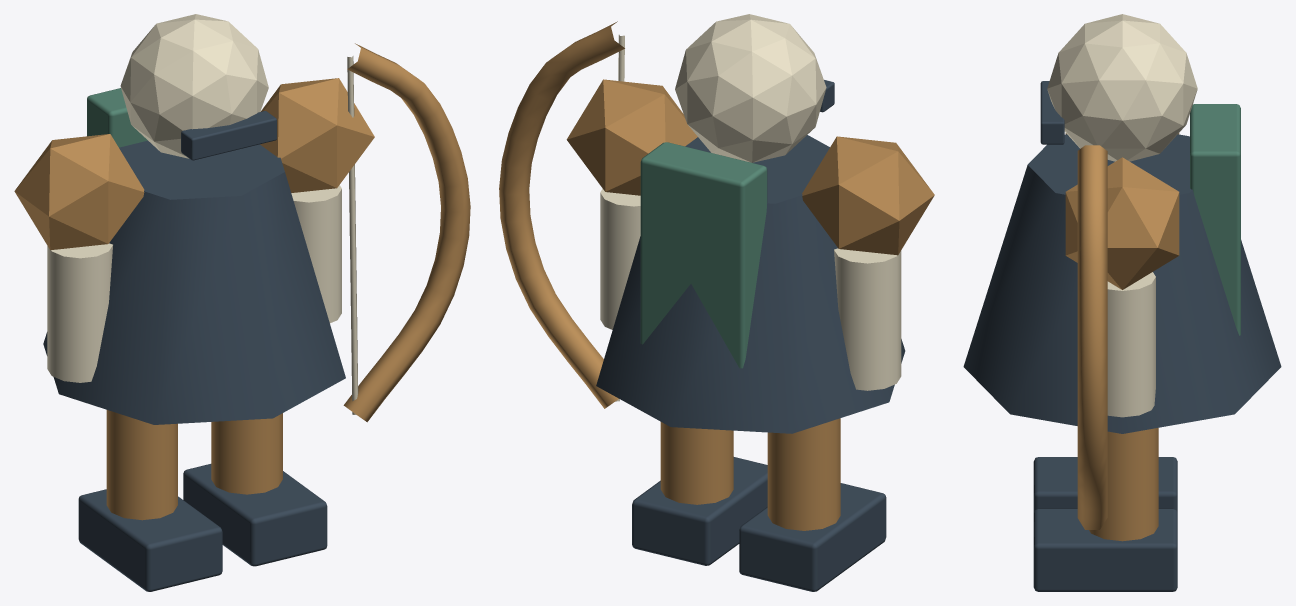
The model's file is sunfall-rift-moba-thorn-ranger-c5d8e879__21989.glb.
3 renders of one model, left to right at view 1: azimuth 30°, elevation 25°; view 2: azimuth 150°, elevation 25°; view 3: azimuth 270°, elevation 25°, orthographic. The views are drawn at different scales.
Visible parts, largest first — view 1: thorn-ranger; view 2: thorn-ranger; view 3: thorn-ranger.
Part boxes in pixels (<box>): thorn-ranger: <box>14,14,470,591</box>; thorn-ranger: <box>499,14,934,591</box>; thorn-ranger: <box>963,14,1281,591</box>.
Bounding box in the file's own units: 1.64 × 1.94 × 1.06.
